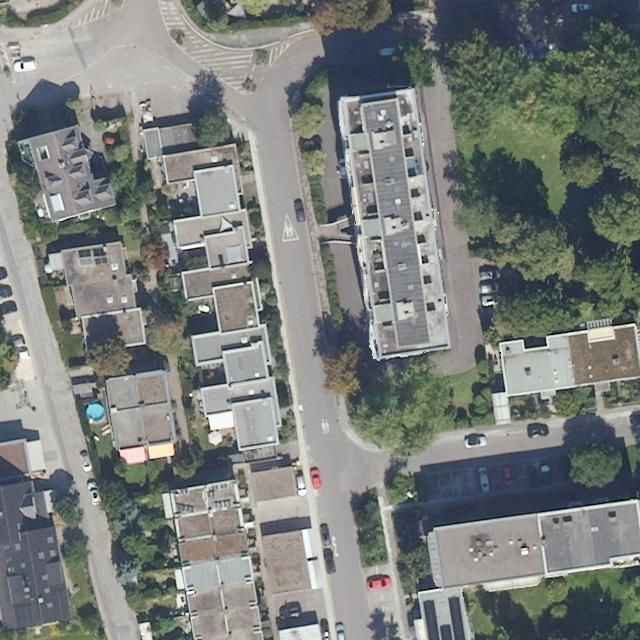PV: (78, 248, 108, 266)
